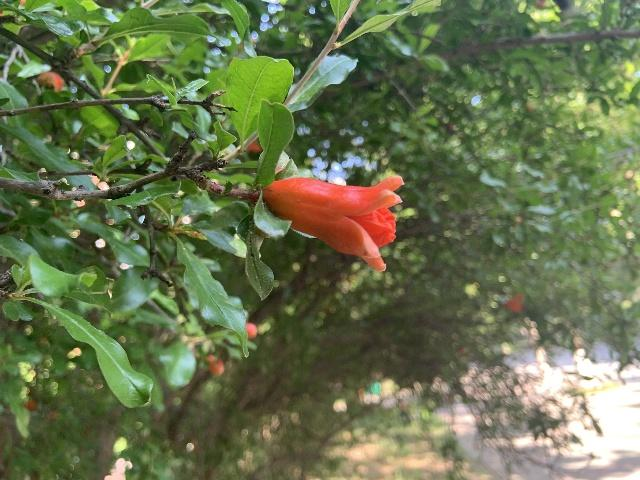flower: (262, 173, 403, 270)
